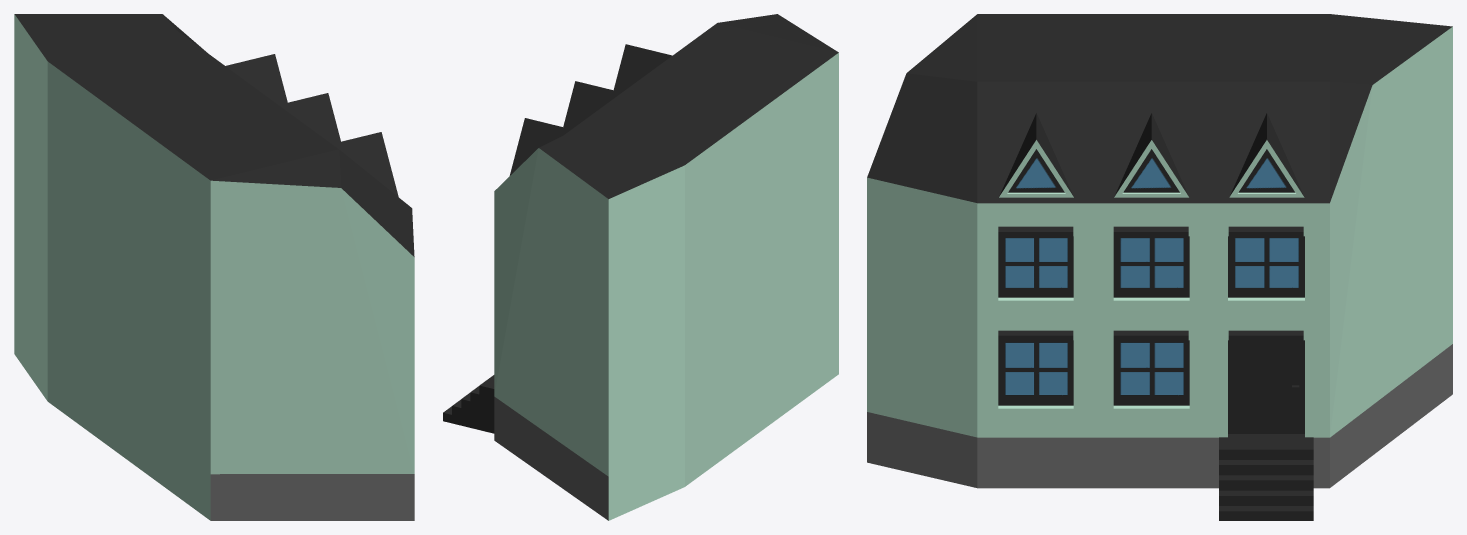
File: NormalTriangleLongMint.obj
3 renders of one model, left to right at view 1: azimuth 30°, elevation 25°; view 2: azimuth 150°, elevation 25°; view 3: azimuth 270°, elevation 25°, orthographic. The views are drawn at different scales.
Visible parts, largest first — view 1: ZwyklyTrojkatnyPrzerobionyMietowy; view 2: ZwyklyTrojkatnyPrzerobionyMietowy; view 3: ZwyklyTrojkatnyPrzerobionyMietowy.
Boxes of the visible parts, x1,y1,x2,y2 form: ZwyklyTrojkatnyPrzerobionyMietowy: (14,14,414,520); ZwyklyTrojkatnyPrzerobionyMietowy: (443,14,838,520); ZwyklyTrojkatnyPrzerobionyMietowy: (867,14,1452,520).
Size of the model in its own units: 6.53 by 8.07 by 11.64.
